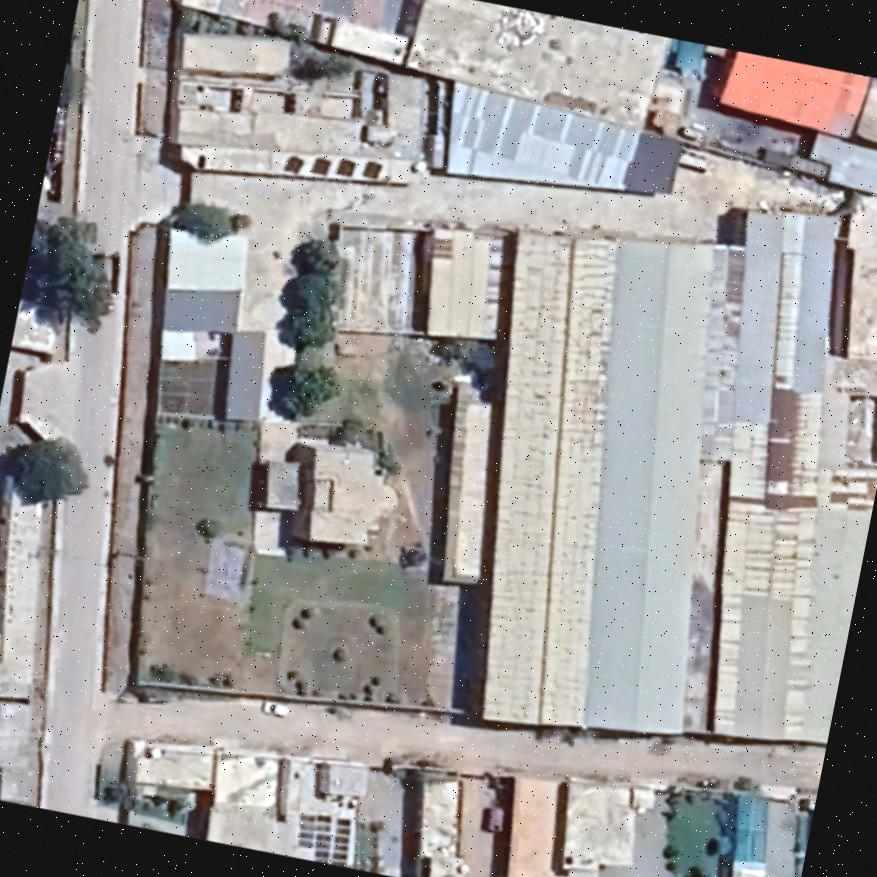Solarpanel: (296, 812, 352, 867)
